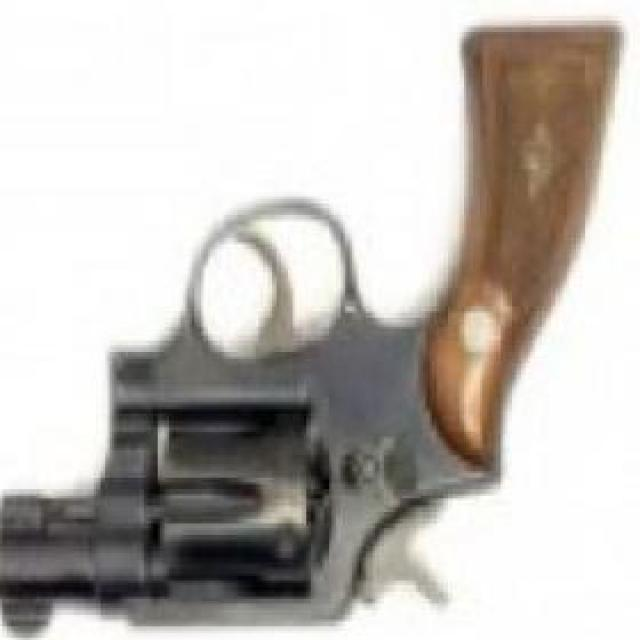pistol: (0, 27, 622, 631)
